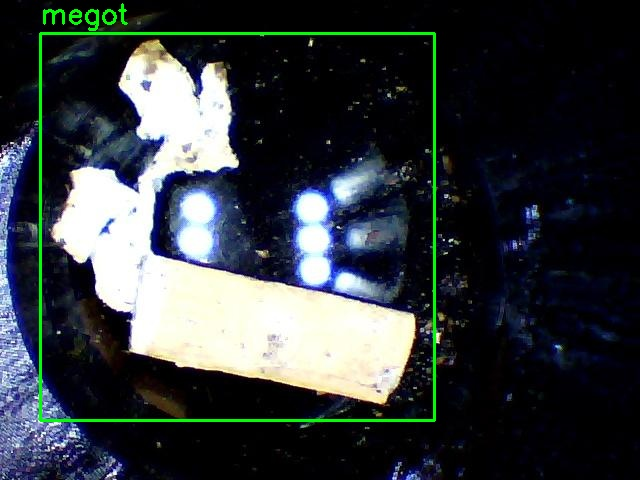megot: (40, 33, 434, 420)
